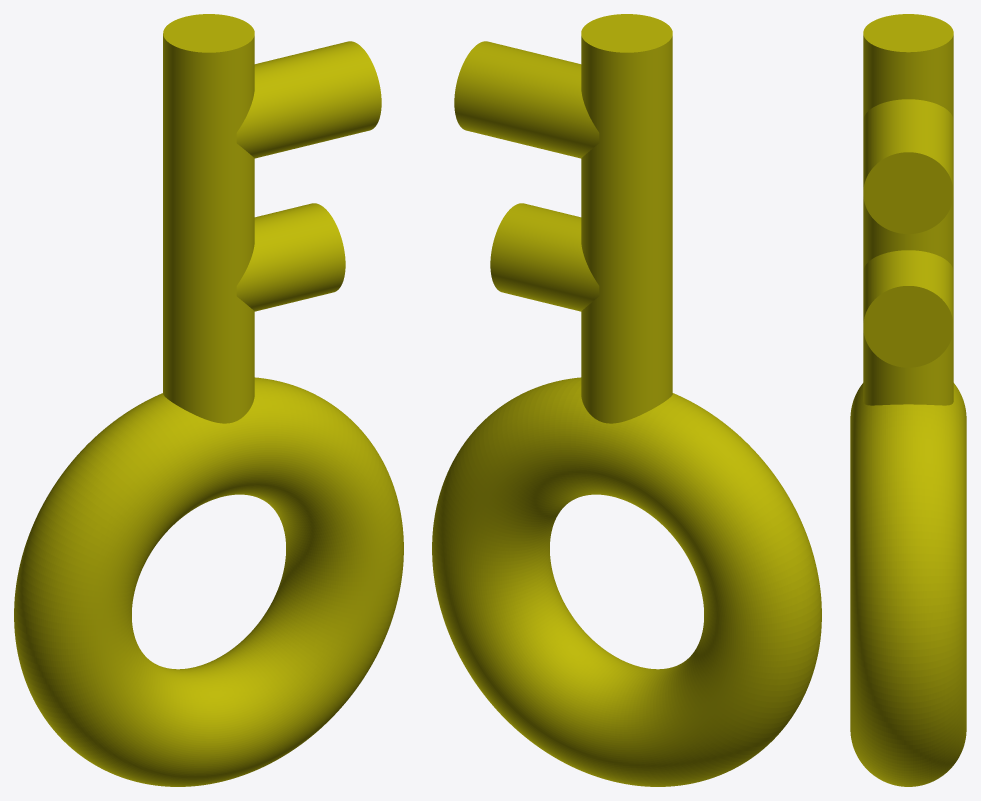
Rendered from YellowKey.fbx.
3 renders of one model, left to right at view 1: azimuth 30°, elevation 25°; view 2: azimuth 150°, elevation 25°; view 3: azimuth 270°, elevation 25°, orthographic.
Visible parts, largest first — view 1: Torus, Cylinder, Cylinder.001, Cylinder.002; view 2: Torus, Cylinder, Cylinder.001, Cylinder.002; view 3: Torus, Cylinder, Cylinder.001, Cylinder.002.
Boxes of the visible parts, left/top/right/bottom form: Torus: left=14, top=377, right=403, bottom=786; Cylinder: left=163, top=14, right=254, bottom=423; Cylinder.001: left=236, top=41, right=381, bottom=158; Cylinder.002: left=236, top=203, right=345, bottom=311; Torus: left=432, top=377, right=821, bottom=786; Cylinder: left=581, top=14, right=672, bottom=423; Cylinder.001: left=454, top=41, right=599, bottom=158; Cylinder.002: left=490, top=203, right=599, bottom=311; Torus: left=850, top=383, right=966, bottom=786; Cylinder: left=863, top=14, right=953, bottom=405; Cylinder.001: left=863, top=99, right=953, bottom=233; Cylinder.002: left=863, top=250, right=953, bottom=367.
Bounding box in the file's own units: 132 × 251 × 36.
